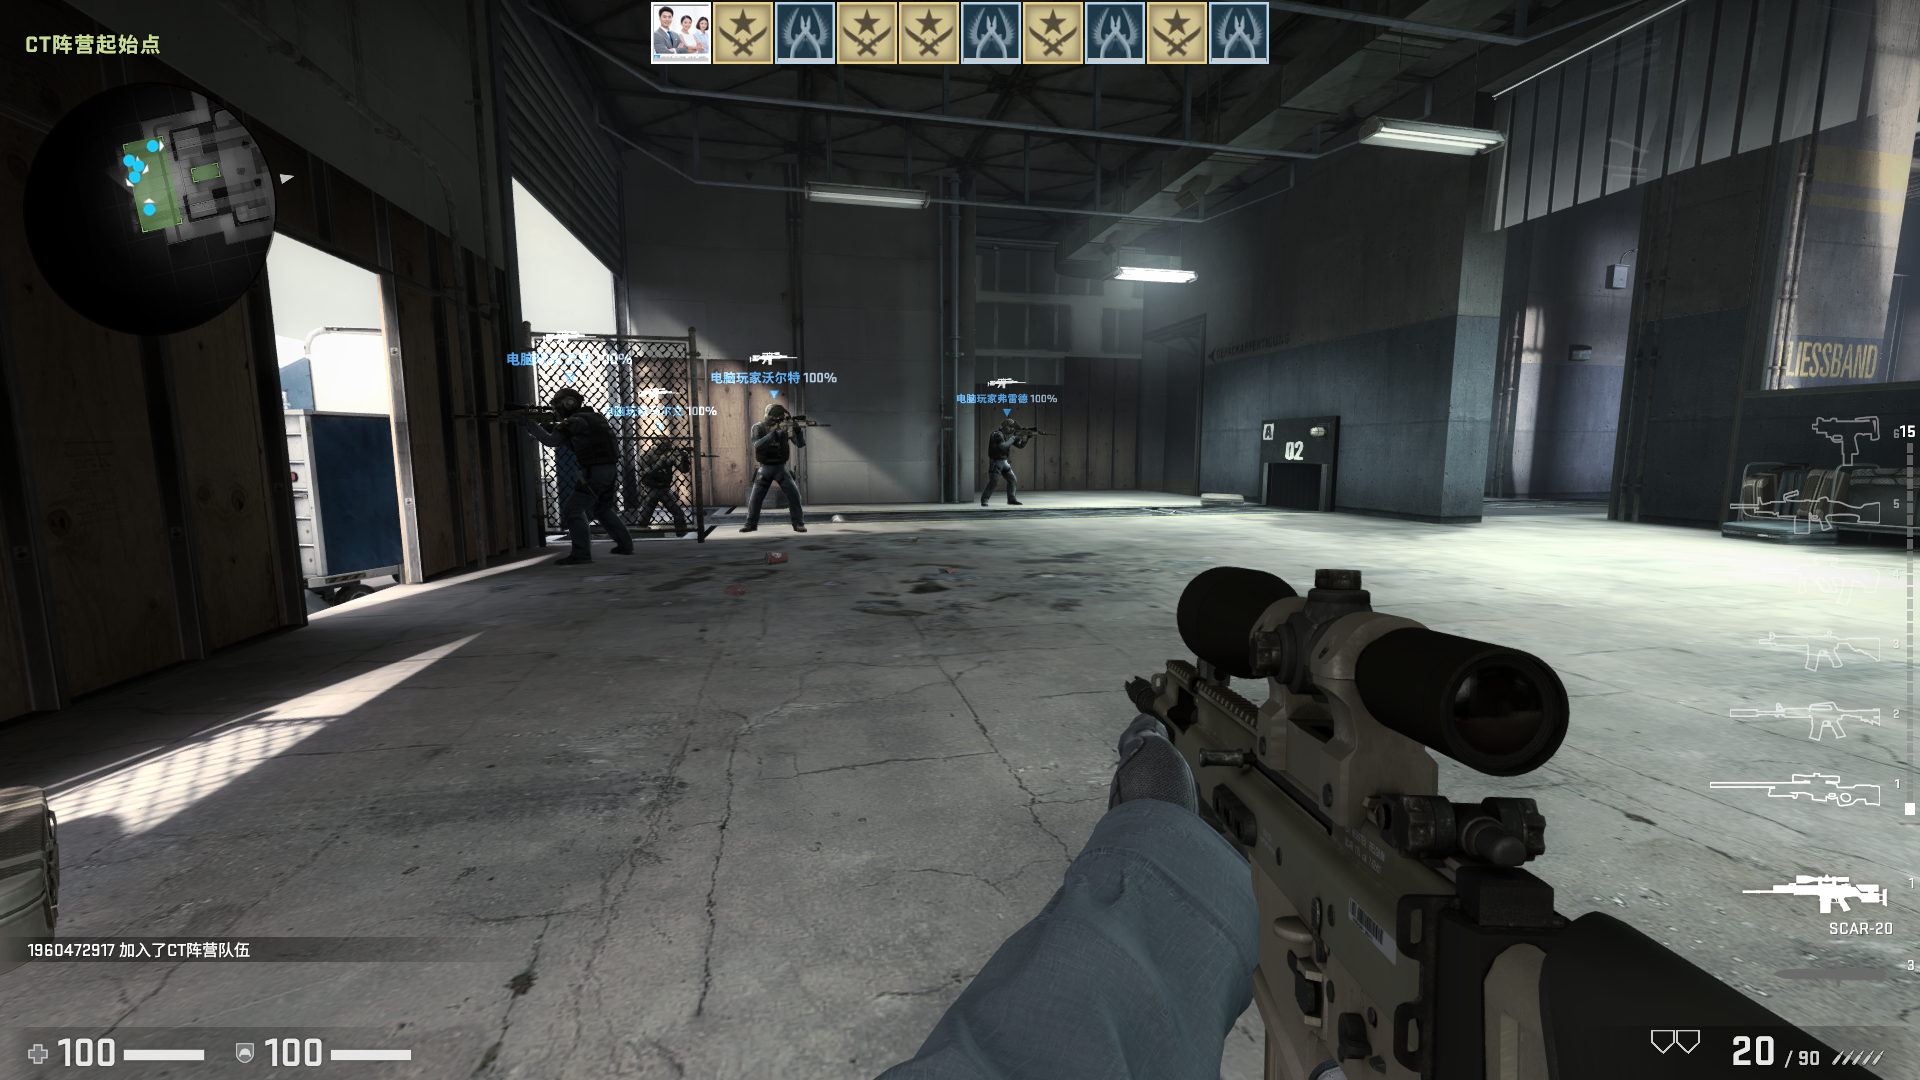person: (521, 388, 635, 568), (746, 405, 810, 533), (633, 436, 691, 538), (983, 418, 1029, 506)
